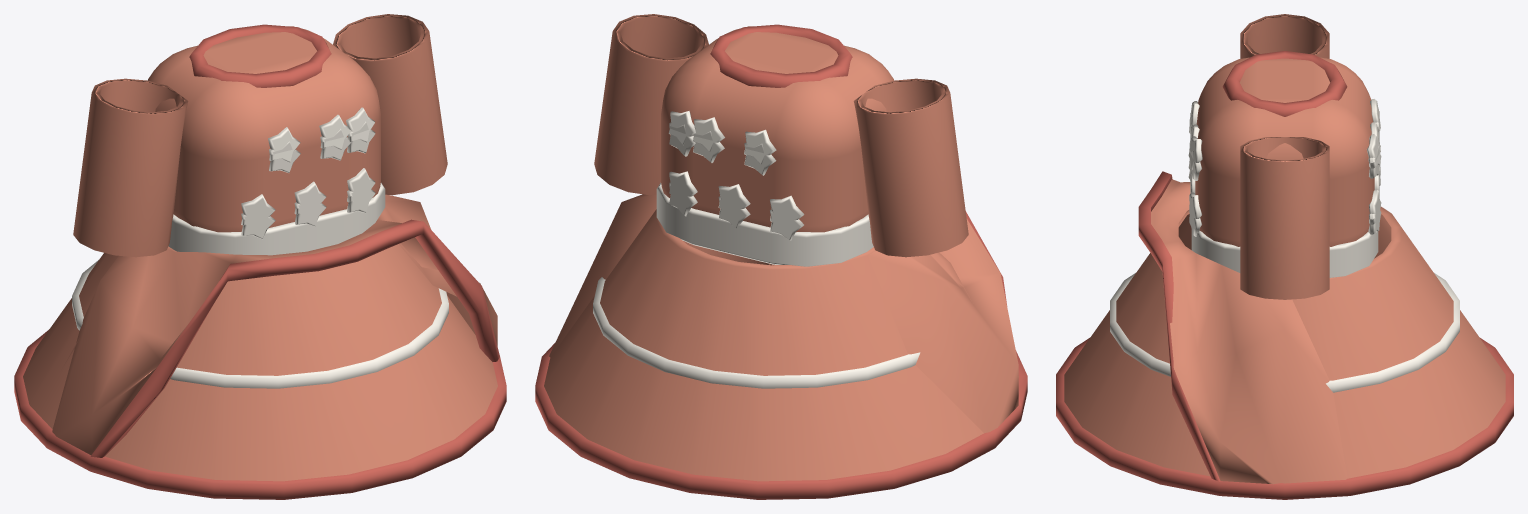
Rendered from blossoming_kimono.glb.
3 renders of one model, left to right at view 1: azimuth 30°, elevation 25°; view 2: azimuth 150°, elevation 25°; view 3: azimuth 270°, elevation 25°, orthographic. The views are drawn at different scales.
Parts seen in each view (by area): view 1: blossoming_kimono_Body, blossoming_kimono_Body_sit, blossoming_kimono_ArmL, blossoming_kimono_ArmR; view 2: blossoming_kimono_Body, blossoming_kimono_Body_sit, blossoming_kimono_ArmL, blossoming_kimono_ArmR; view 3: blossoming_kimono_Body, blossoming_kimono_Body_sit, blossoming_kimono_ArmR, blossoming_kimono_ArmL.
Part boxes in pixels (left/top/right/bottom): blossoming_kimono_Body: left=14, top=24, right=506, bottom=499; blossoming_kimono_Body_sit: left=52, top=51, right=499, bottom=457; blossoming_kimono_ArmL: left=73, top=78, right=188, bottom=257; blossoming_kimono_ArmR: left=333, top=14, right=447, bottom=195; blossoming_kimono_Body: left=535, top=24, right=1027, bottom=499; blossoming_kimono_Body_sit: left=549, top=49, right=1020, bottom=433; blossoming_kimono_ArmL: left=853, top=78, right=968, bottom=257; blossoming_kimono_ArmR: left=594, top=14, right=708, bottom=195; blossoming_kimono_Body: left=1056, top=51, right=1513, bottom=499; blossoming_kimono_Body_sit: left=1138, top=99, right=1390, bottom=484; blossoming_kimono_ArmR: left=1240, top=137, right=1329, bottom=299; blossoming_kimono_ArmL: left=1240, top=14, right=1329, bottom=58.
Size of the model in its own units: 0.748 by 0.6289 by 0.7404.
